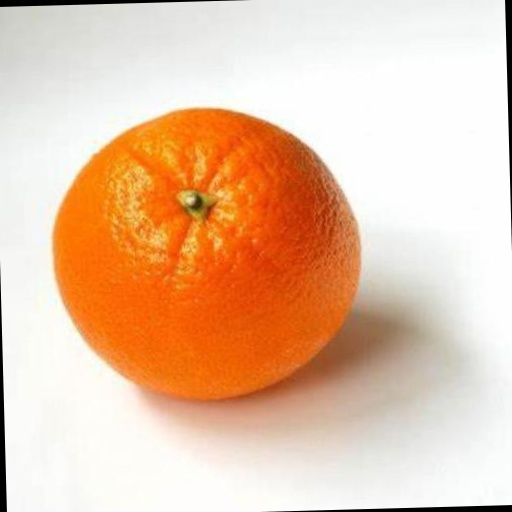fruit: (256, 140, 445, 479)
